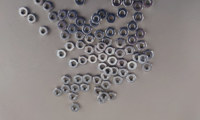nut: (117, 8, 128, 20), (106, 13, 117, 24), (75, 16, 86, 27), (133, 1, 143, 12), (128, 22, 138, 33), (127, 36, 138, 46), (97, 9, 107, 20), (137, 41, 148, 51), (125, 46, 136, 56), (144, 49, 154, 60), (138, 54, 149, 64), (116, 38, 126, 49), (91, 14, 102, 24), (74, 31, 85, 41), (48, 12, 58, 23), (19, 7, 30, 17), (115, 48, 126, 58), (136, 29, 146, 39), (119, 28, 129, 38), (106, 28, 116, 38), (95, 30, 105, 40), (67, 10, 77, 20), (82, 25, 92, 35), (43, 2, 53, 12), (58, 10, 68, 20), (39, 26, 49, 36), (27, 14, 37, 24), (57, 49, 67, 59), (69, 59, 79, 69), (53, 88, 63, 98), (98, 53, 108, 63), (102, 37, 112, 47), (70, 103, 80, 113), (78, 56, 88, 66), (127, 73, 137, 83), (128, 61, 138, 71), (117, 59, 127, 69), (113, 76, 123, 86), (92, 76, 102, 86), (143, 0, 154, 9), (133, 13, 144, 22), (98, 63, 109, 72), (101, 81, 112, 90), (142, 63, 152, 72), (90, 19, 100, 28), (88, 55, 98, 64), (57, 21, 67, 30), (60, 31, 70, 40), (65, 42, 75, 51), (76, 41, 86, 50), (85, 35, 95, 44), (85, 46, 95, 55), (97, 42, 107, 51), (83, 74, 92, 84), (108, 57, 118, 66), (106, 47, 116, 56), (104, 67, 114, 76), (119, 69, 129, 78), (107, 92, 117, 101), (62, 76, 71, 85), (74, 75, 83, 84), (71, 84, 80, 93), (61, 85, 70, 94), (69, 93, 78, 102), (81, 84, 90, 93), (100, 92, 109, 101), (97, 95, 106, 104), (101, 73, 111, 81), (94, 88, 104, 96), (123, 0, 134, 7), (95, 45, 103, 54), (112, 1, 122, 8), (133, 53, 140, 63), (111, 67, 118, 76), (75, 0, 85, 6), (34, 0, 44, 5)
